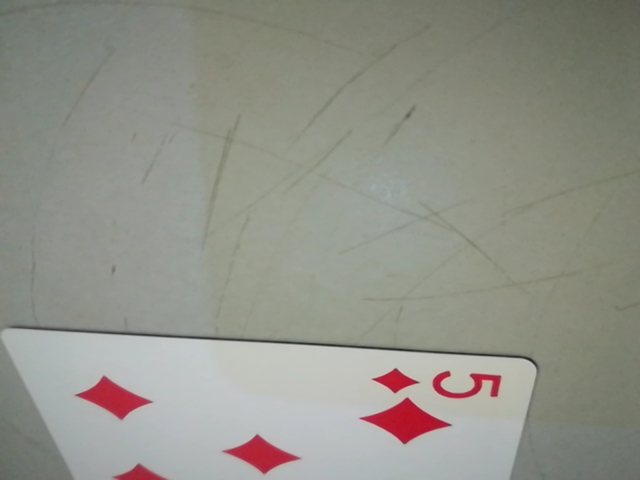fk 5: (370, 364, 519, 409)
